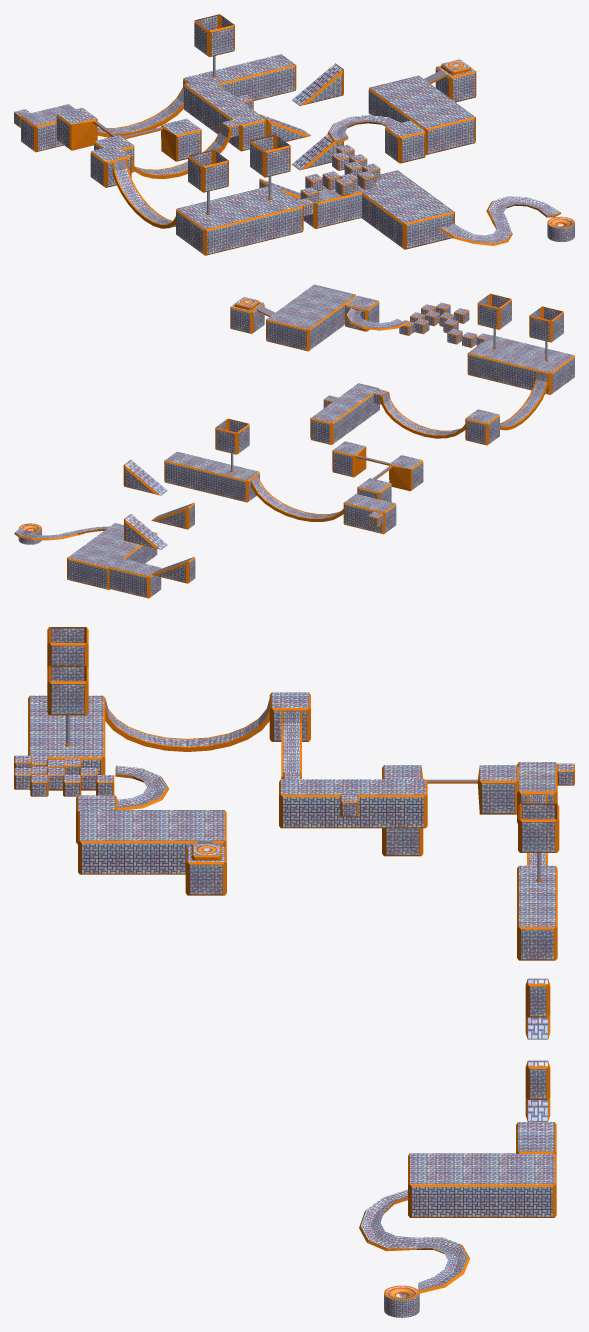
The model's file is Level43.fbx.
3 renders of one model, top to bottom at view 1: azimuth 30°, elevation 25°; view 2: azimuth 150°, elevation 25°; view 3: azimuth 270°, elevation 25°, orthographic. The views are drawn at different scales.
Visible parts, largest first — view 1: Level43; view 2: Level43; view 3: Level43.
Part boxes in pixels (left/top/right/bottom): Level43: left=14, top=14, right=574, bottom=255; Level43: left=14, top=284, right=574, bottom=598; Level43: left=14, top=627, right=574, bottom=1317.
Size of the model in its own units: 6188 by 3317 by 4516.
11 materials, 7 textured.
